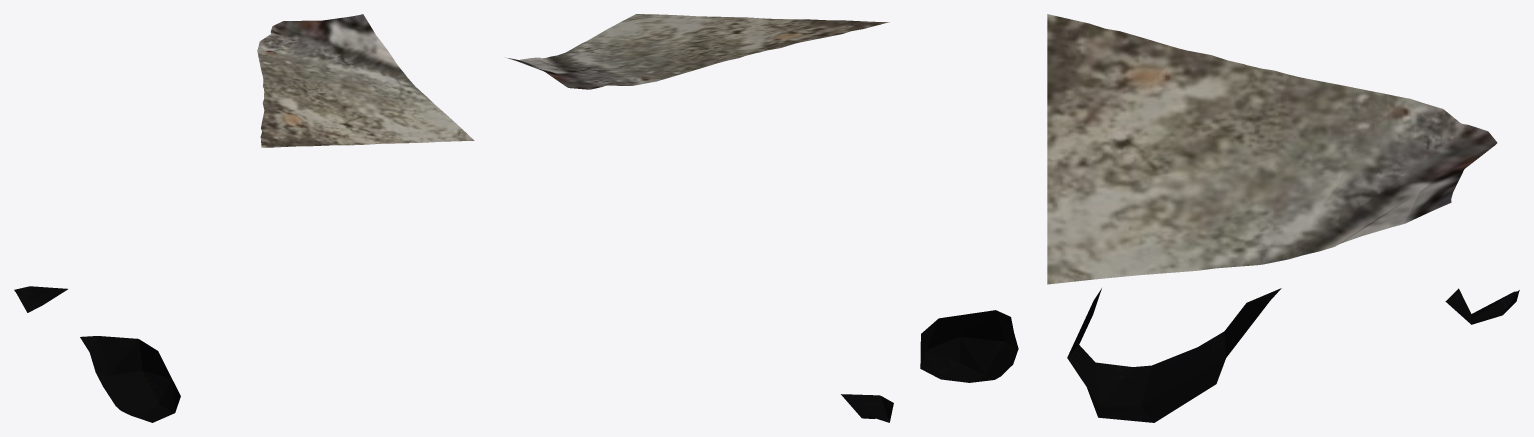
3 renders of one model, left to right at view 1: azimuth 30°, elevation 25°; view 2: azimuth 150°, elevation 25°; view 3: azimuth 270°, elevation 25°, orthographic. The views are drawn at different scales.
Size of the model in its own units: 0.8373 by 0.6373 by 0.5728.
1 material, 1 textured.
